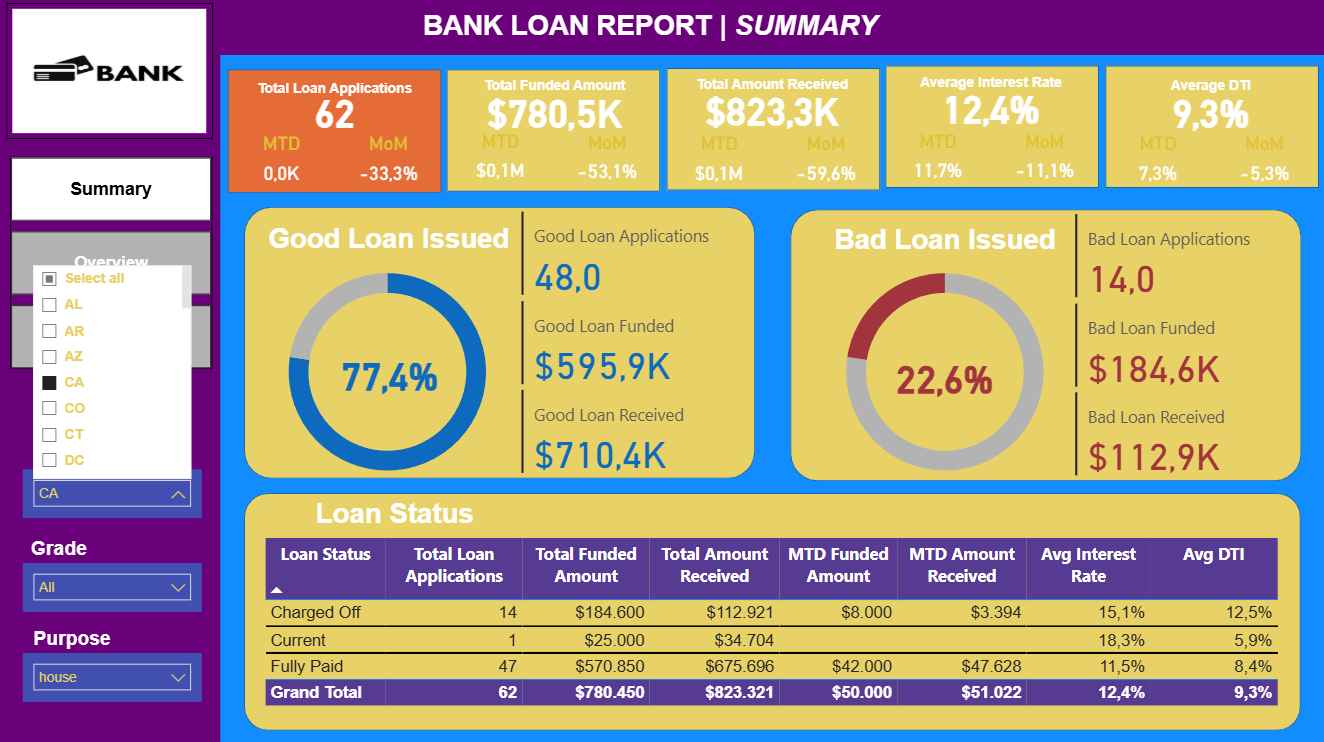

Layout of this report page (visuals, bound fields, positions):
{"tool":"powerbi","page":{"name":"Summary","canvas":[1280,720],"ordinal":0},"visuals":[{"type":"shape","box":[0,27.7,213.5,692.5],"z":0},{"type":"shape","box":[220.7,68.6,206.3,119.4],"z":0,"group":"g2"},{"type":"group","id":"g1","title":"Group 2","box":[431.7,69.3,206.3,118.3],"z":0,"group":"g6"},{"type":"shape","box":[763.2,204,493.4,262.6],"z":1000},{"type":"shape","box":[236.6,201.7,493.4,262.6],"z":2000},{"type":"shape","box":[0,0,1280,55],"z":3000},{"type":"textbox","box":[404.2,7.2,470.5,48.3],"z":4000},{"type":"card","fields":{"Values":["bank_loan_data.Total Loan Applications"]},"box":[220.7,77.3,206.3,62],"z":4000,"group":"g2"},{"type":"card","title":"MoM","fields":{"Values":["bank_loan_data.MoM Funded"]},"box":[535.6,129.9,102.4,57.7],"z":4000,"group":"g6"},{"type":"shape","box":[1067.2,65.3,206.3,118.2],"z":5000},{"type":"textbox","box":[220.7,72.2,206.3,30.2],"z":5000,"group":"g2"},{"type":"group","id":"g2","title":"Group 1","box":[220.7,68.6,206.3,119.4],"z":6000},{"type":"card","title":"MTD","fields":{"Values":["bank_loan_data.MTD Loan Applications"]},"box":[220.7,130.1,103.8,57.9],"z":6000,"group":"g2"},{"type":"card","title":"MoM","fields":{"Values":["bank_loan_data.MoM"]},"box":[324.5,130.1,102.5,57.9],"z":7000,"group":"g2"},{"type":"textbox","box":[245.3,211.8,262.6,47.6],"z":7000},{"type":"group","id":"g3","title":"Group 3","box":[642.7,67.2,207.2,120],"z":8000},{"type":"shape","box":[431.7,69.3,206.3,118.2],"z":8000,"group":"g1"},{"type":"group","id":"g4","title":"Group 4","box":[854.5,65.7,207.2,120],"z":9000},{"type":"card","fields":{"Values":["bank_loan_data.Total Funded AMount"]},"box":[432.3,78,206.3,62],"z":9000,"group":"g1"},{"type":"group","id":"g5","title":"Group 5","box":[1066.3,69.5,206.3,118.3],"z":10000},{"type":"textbox","box":[432.3,70.8,206.3,30.3],"z":10000,"group":"g1"},{"type":"group","id":"g6","title":"Group 6","box":[431.7,69.3,206.3,118.3],"z":11000},{"type":"card","title":"MTD","fields":{"Values":["bank_loan_data.MTD Funded Amount"]},"box":[431.7,128.4,103.8,57.9],"z":11000,"group":"g1"},{"type":"donutChart","fields":{"Category":["bank_loan_data.Good vs Bad Loans"],"Y":["bank_loan_data.Total Loan Applications"]},"box":[251,233.7,248.2,253.9],"z":12000},{"type":"shape","box":[643.6,67.2,206.3,118.2],"z":13000,"group":"g3"},{"type":"card","fields":{"Values":["bank_loan_data.Good Loan %"]},"box":[298.7,331.5,155.8,62],"z":13000},{"type":"card","fields":{"Values":["bank_loan_data.Total Amount Received"]},"box":[642.7,76.1,206.3,62],"z":14000,"group":"g3"},{"type":"cardVisual","fields":{"Data":["bank_loan_data.Good Loan Applications","bank_loan_data.Good Loan Funded","bank_loan_data.Good Loan Received"]},"box":[499.2,201.7,222.2,262.6],"z":14000},{"type":"textbox","box":[642.7,68.9,206.3,30.3],"z":15000,"group":"g3"},{"type":"textbox","box":[782,214.1,262.6,47.6],"z":15000},{"type":"card","title":"MTD","fields":{"Values":["bank_loan_data.MTD Received"]},"box":[642.7,129.5,103.9,57.7],"z":16000,"group":"g3"},{"type":"donutChart","fields":{"Category":["bank_loan_data.Good vs Bad Loans"],"Y":["bank_loan_data.Total Loan Applications"]},"box":[789.2,233.7,248.2,253.9],"z":16000},{"type":"card","title":"MoM","fields":{"Values":["bank_loan_data.MoM Received"]},"box":[746.6,129.5,102.4,57.7],"z":17000,"group":"g3"},{"type":"shape","box":[236.6,477.6,1020,229.4],"z":17000},{"type":"shape","box":[855.4,65.7,206.3,118.2],"z":18000,"group":"g4"},{"type":"card","fields":{"Values":["bank_loan_data.Bad Loan %"]},"box":[835.4,333.9,155.8,62],"z":18000},{"type":"card","fields":{"Values":["bank_loan_data.AVG IntRate"]},"box":[854.5,74.6,206.3,62],"z":19000,"group":"g4"},{"type":"cardVisual","fields":{"Data":["bank_loan_data.Bad Loan Applications","bank_loan_data.Bad Loan Funded","bank_loan_data.Bad Loan Received"]},"box":[1034.5,204,222.2,262.6],"z":19000},{"type":"textbox","box":[854.5,67.4,206.3,30.3],"z":20000,"group":"g4"},{"type":"tableEx","fields":{"Values":["bank_loan_data.loan_status","bank_loan_data.Total Loan Applications","bank_loan_data.Total Funded AMount","bank_loan_data.Total Amount Received","bank_loan_data.MTD Funded Amount","bank_loan_data.MTD Received","bank_loan_data.AVG IntRate","bank_loan_data.AVG DTI"]},"box":[250.9,516.4,994.1,203.9],"z":20000},{"type":"card","title":"MTD","fields":{"Values":["bank_loan_data.MTD AVG"]},"box":[854.5,128,103.9,57.7],"z":21000,"group":"g4"},{"type":"textbox","box":[250.9,477.8,261.8,47.1],"z":21000},{"type":"card","title":"MoM","fields":{"Values":["bank_loan_data.MoM AVG"]},"box":[958.4,128,102.4,57.7],"z":22000,"group":"g4"},{"type":"slicer","fields":{"Values":["bank_loan_data.address_state"]},"box":[22.9,454.8,172.5,47.1],"z":22000},{"type":"textbox","box":[22.9,422.3,70,32.6],"z":23000},{"type":"card","fields":{"Values":["bank_loan_data.AVG DTI"]},"box":[1066.3,76.7,206.3,62],"z":24000,"group":"g5"},{"type":"slicer","fields":{"Values":["bank_loan_data.grade"]},"box":[22.9,545.3,172.5,47.1],"z":24000},{"type":"textbox","box":[1066.3,69.5,206.3,30.3],"z":25000,"group":"g5"},{"type":"textbox","box":[22.9,516.4,70,32.6],"z":25000},{"type":"card","title":"MTD","fields":{"Values":["bank_loan_data.MTD ADTI"]},"box":[1066.3,130.1,103.9,57.7],"z":26000,"group":"g5"},{"type":"slicer","fields":{"Values":["bank_loan_data.purpose"]},"box":[22.9,632.2,172.5,47.1],"z":26000},{"type":"card","title":"MoM","fields":{"Values":["bank_loan_data.MoM ADTI"]},"box":[1170.2,130.1,102.4,57.7],"z":27000,"group":"g5"},{"type":"textbox","box":[22.9,603.2,95.3,32.6],"z":27000},{"type":"image","box":[7.2,4.8,199.1,131.5],"z":29000},{"type":"pageNavigator","box":[10.9,153.2,195.4,205.1],"z":29001}]}

Visuals, with their boxes in screenshot pixels (x1, y1, x2, y2), scaled from the page's 1280x720 canvas onto the 1324x742 screenshot:
shape: [0, 29, 221, 741]
shape: [228, 71, 442, 194]
"Group 2" group: [447, 71, 660, 193]
shape: [789, 210, 1300, 481]
shape: [245, 208, 755, 478]
shape: [0, 0, 1323, 57]
textbox: [418, 7, 905, 57]
card - bank_loan_data.Total Loan Applications: [228, 80, 442, 144]
"MoM" card: [554, 134, 660, 193]
shape: [1104, 67, 1317, 189]
textbox: [228, 74, 442, 106]
"Group 1" group: [228, 71, 442, 194]
"MTD" card: [228, 134, 336, 194]
"MoM" card: [336, 134, 442, 194]
textbox: [254, 218, 525, 267]
"Group 3" group: [665, 69, 879, 193]
shape: [447, 71, 660, 193]
"Group 4" group: [884, 68, 1098, 191]
card - bank_loan_data.Total Funded AMount: [447, 80, 661, 144]
"Group 5" group: [1103, 72, 1316, 194]
textbox: [447, 73, 661, 104]
"Group 6" group: [447, 71, 660, 193]
"MTD" card: [447, 132, 554, 192]
donutChart - bank_loan_data.Good vs Bad Loans x bank_loan_data.Total Loan Applications: [260, 241, 516, 502]
shape: [666, 69, 879, 191]
card - bank_loan_data.Good Loan %: [309, 342, 470, 406]
card - bank_loan_data.Total Amount Received: [665, 78, 878, 142]
cardVisual - bank_loan_data.Good Loan Applications x bank_loan_data.Good Loan Funded: [516, 208, 746, 478]
textbox: [665, 71, 878, 102]
textbox: [809, 221, 1081, 270]
"MTD" card: [665, 133, 772, 193]
donutChart - bank_loan_data.Good vs Bad Loans x bank_loan_data.Total Loan Applications: [816, 241, 1073, 502]
"MoM" card: [772, 133, 878, 193]
shape: [245, 492, 1300, 729]
shape: [885, 68, 1098, 190]
card - bank_loan_data.Bad Loan %: [864, 344, 1025, 408]
card - bank_loan_data.AVG IntRate: [884, 77, 1097, 141]
cardVisual - bank_loan_data.Bad Loan Applications x bank_loan_data.Bad Loan Funded: [1070, 210, 1300, 481]
textbox: [884, 69, 1097, 101]
tableEx - bank_loan_data.loan_status x bank_loan_data.Total Loan Applications: [260, 532, 1288, 741]
"MTD" card: [884, 132, 991, 191]
textbox: [260, 492, 530, 541]
"MoM" card: [991, 132, 1097, 191]
slicer - bank_loan_data.address_state: [24, 469, 202, 517]
textbox: [24, 435, 96, 469]
card - bank_loan_data.AVG DTI: [1103, 79, 1316, 143]
slicer - bank_loan_data.grade: [24, 562, 202, 611]
textbox: [1103, 72, 1316, 103]
textbox: [24, 532, 96, 566]
"MTD" card: [1103, 134, 1210, 194]
slicer - bank_loan_data.purpose: [24, 652, 202, 700]
"MoM" card: [1210, 134, 1316, 194]
textbox: [24, 622, 122, 655]
image: [7, 5, 213, 140]
pageNavigator: [11, 158, 213, 369]
